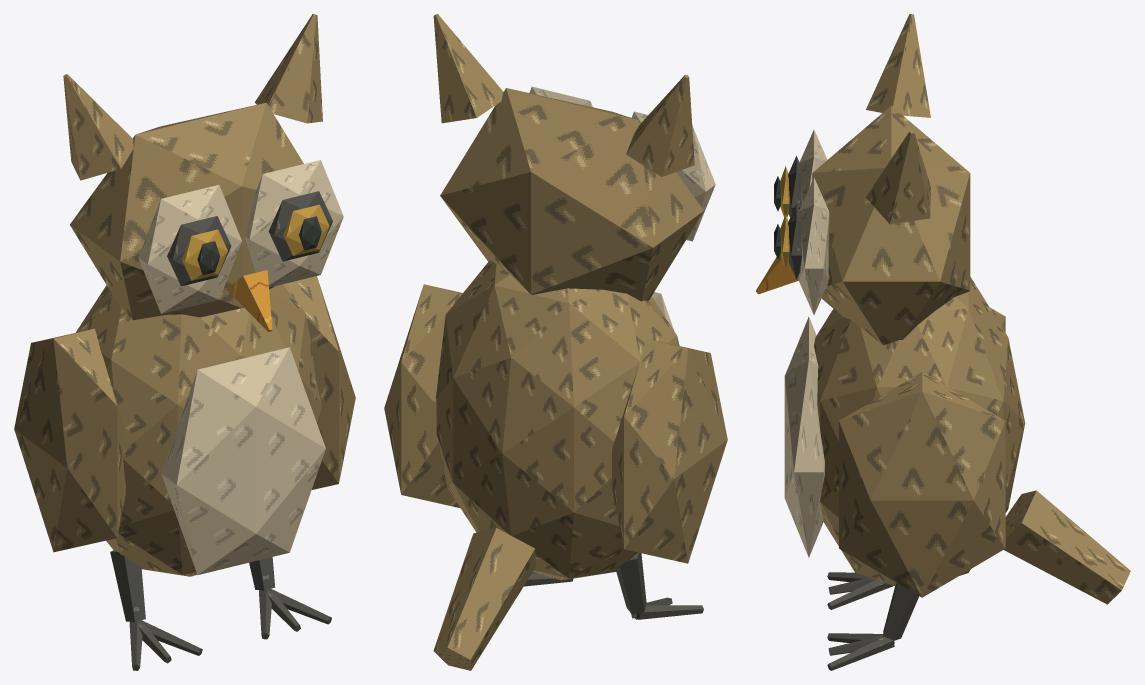
File: animal-coruja-v01.gltf
3 renders of one model, left to right at view 1: azimuth 30°, elevation 25°; view 2: azimuth 150°, elevation 25°; view 3: azimuth 270°, elevation 25°, orthographic. The views are drawn at different scales.
Visible parts, largest first — view 1: corpo, cabeca, asa-esquerda, asa-direita, perna-esquerda, perna-direita; view 2: corpo, cabeca, asa-esquerda, asa-direita, cauda, perna-esquerda; view 3: cabeca, asa-direita, corpo, cauda, perna-direita, perna-esquerda.
Part boxes in pixels (left/top/right/bottom): corpo: left=75, top=284, right=325, bottom=576; cabeca: left=63, top=14, right=343, bottom=331; asa-esquerda: left=14, top=328, right=126, bottom=552; asa-direita: left=283, top=276, right=355, bottom=489; perna-esquerda: left=110, top=550, right=202, bottom=670; perna-direita: left=249, top=557, right=331, bottom=639; corpo: left=435, top=260, right=679, bottom=580; cabeca: left=433, top=14, right=715, bottom=301; asa-esquerda: left=611, top=338, right=727, bottom=563; asa-direita: left=384, top=284, right=462, bottom=508; cauda: left=433, top=528, right=535, bottom=670; perna-esquerda: left=616, top=552, right=703, bottom=619; cabeca: left=756, top=14, right=970, bottom=345; asa-direita: left=839, top=372, right=1005, bottom=597; corpo: left=784, top=277, right=1025, bottom=585; cauda: left=1003, top=490, right=1130, bottom=604; perna-direita: left=827, top=583, right=919, bottom=670; perna-esquerda: left=827, top=572, right=893, bottom=609.
Bounding box in the file's own units: 0.6246 × 1.18 × 0.7279.
1 material, 1 textured.
